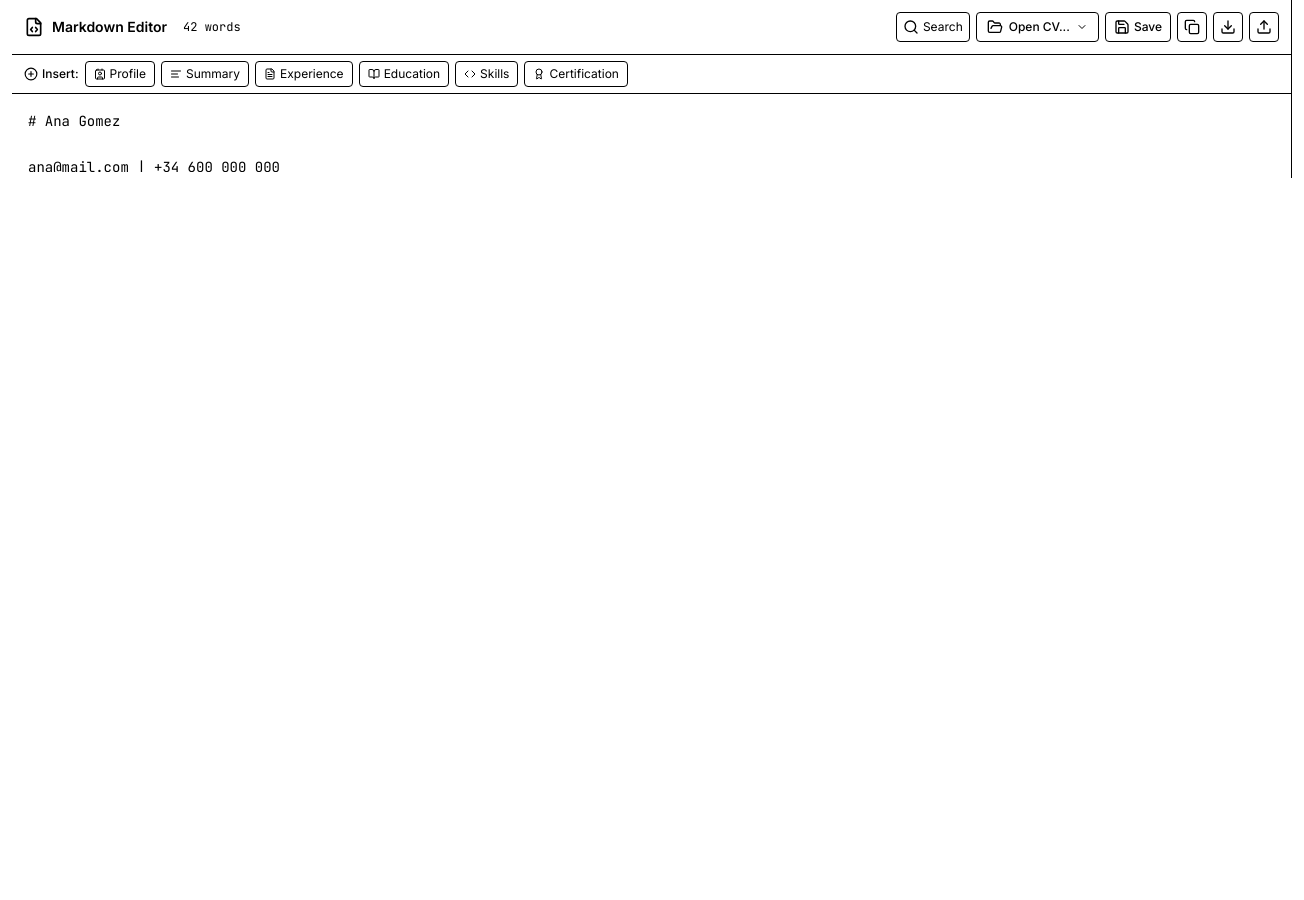
Test: MarkdownEditor library dropdown › closes when the pointer lands outside
Click the button "Open CV...": click(1037, 27) [976, 12, 1099, 42]
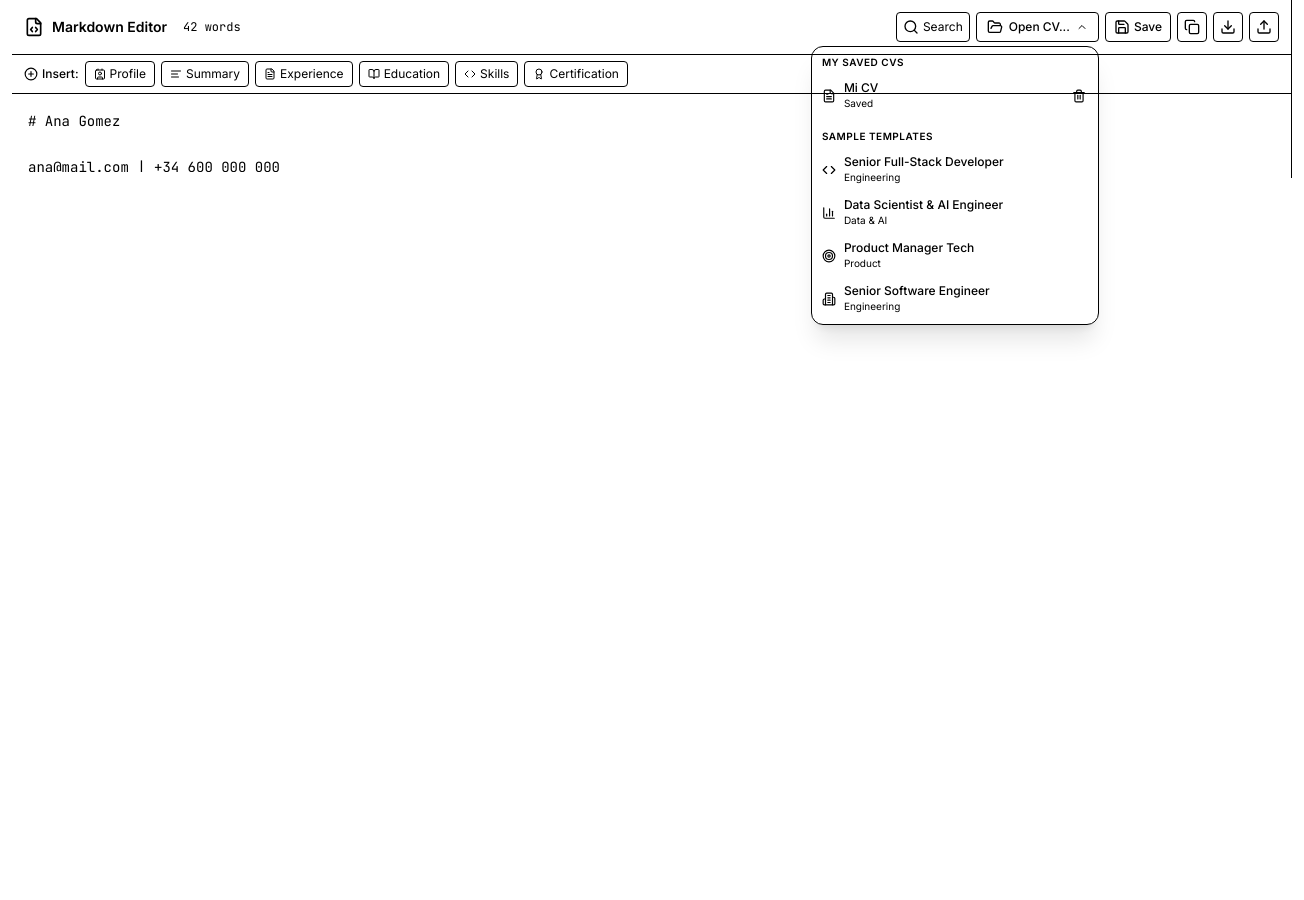
Press the mouse on the element that starts with "Markdown Editor": (652, 450) [12, 0, 1292, 899]
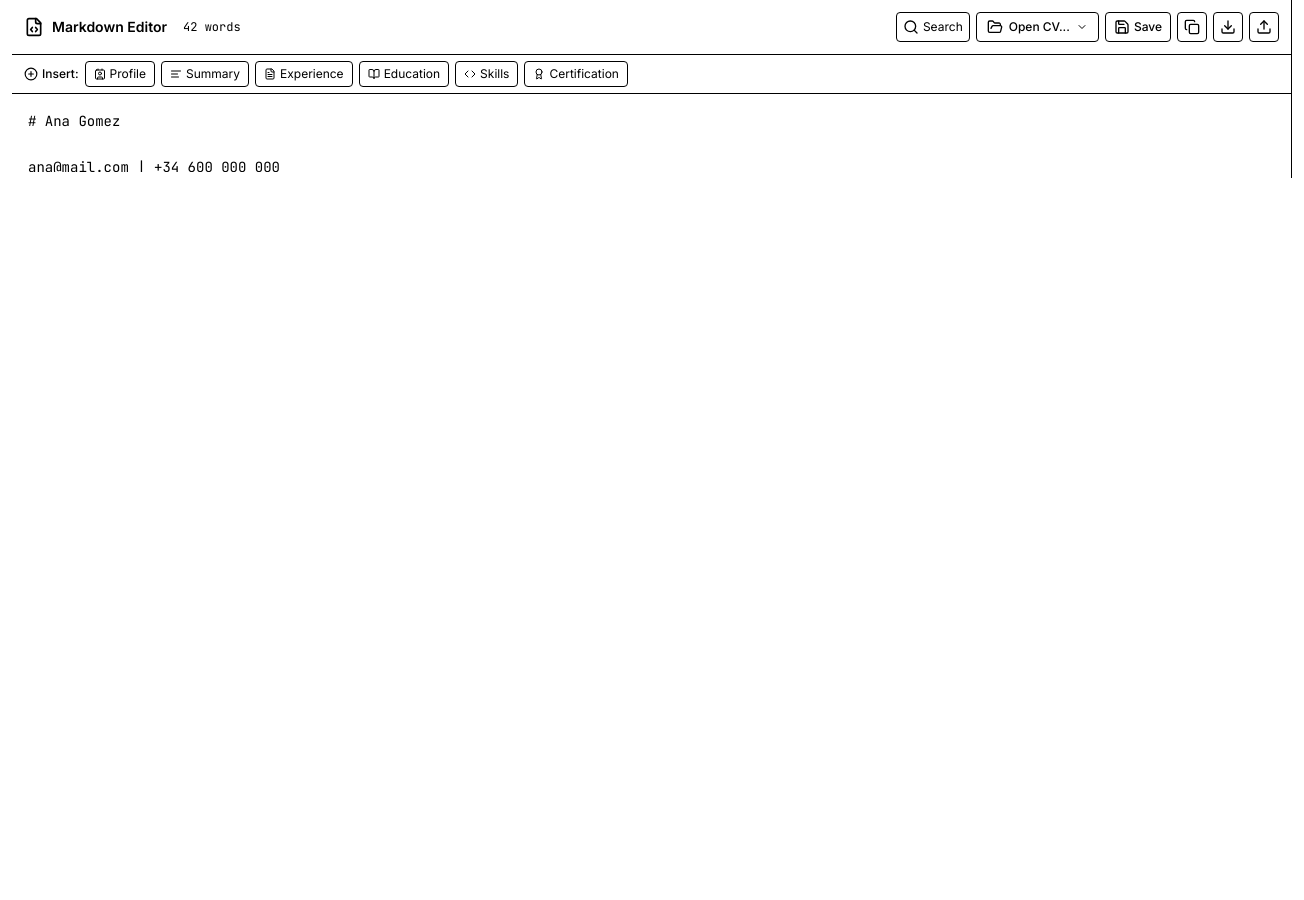
Expected: the menu is gone
